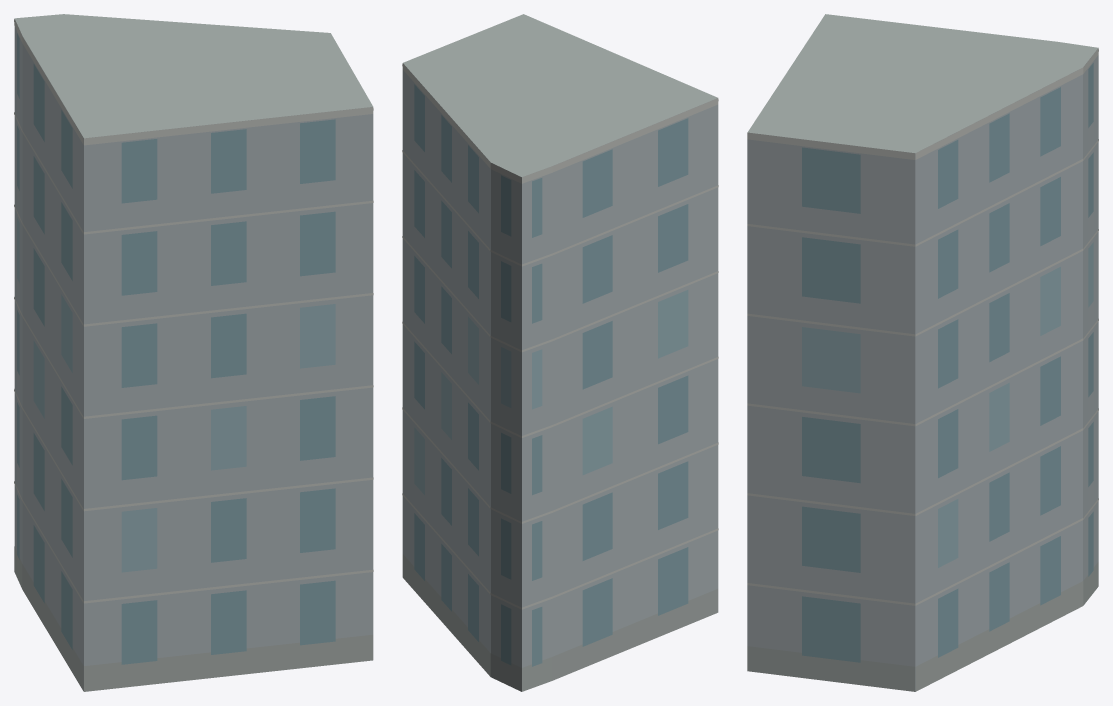
File: survey-upis-32991572.glb
3 views of the same model, side by side, from view 1: azimuth 30°, elevation 25°; view 2: azimuth 150°, elevation 25°; view 3: azimuth 270°, elevation 25° (orthographic). The views are drawn at different scales.
Parts seen in each view (by area): view 1: survey-upis-32991572.tmp; view 2: survey-upis-32991572.tmp; view 3: survey-upis-32991572.tmp.
Boxes of the visible parts, x1=… form: survey-upis-32991572.tmp: x1=14, y1=14, x2=373, y2=691; survey-upis-32991572.tmp: x1=402, y1=14, x2=718, y2=691; survey-upis-32991572.tmp: x1=747, y1=14, x2=1098, y2=691.
Size of the model in its own units: 10.55 by 19 by 11.25.
